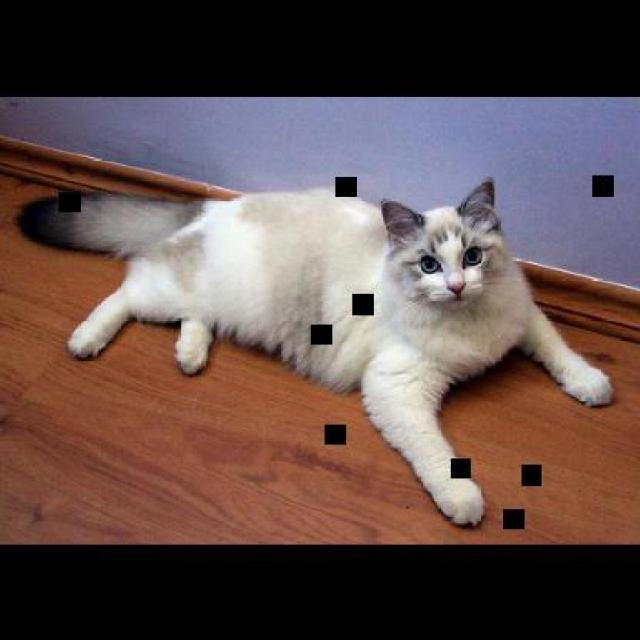unauthorized: (15, 175, 614, 528)
